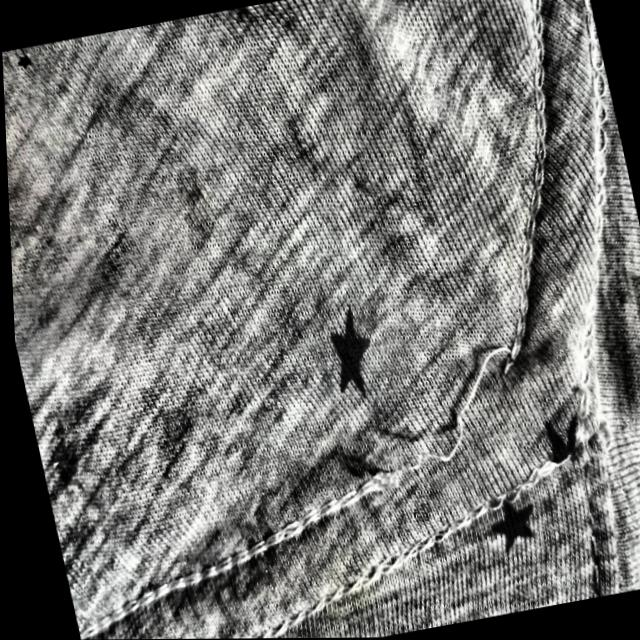Stitch: (319, 328, 557, 505)
